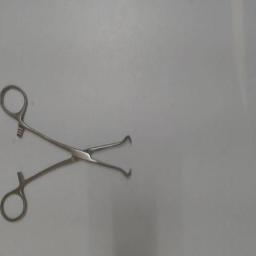Babcock Tissue Forceps: (0, 83, 136, 227)
